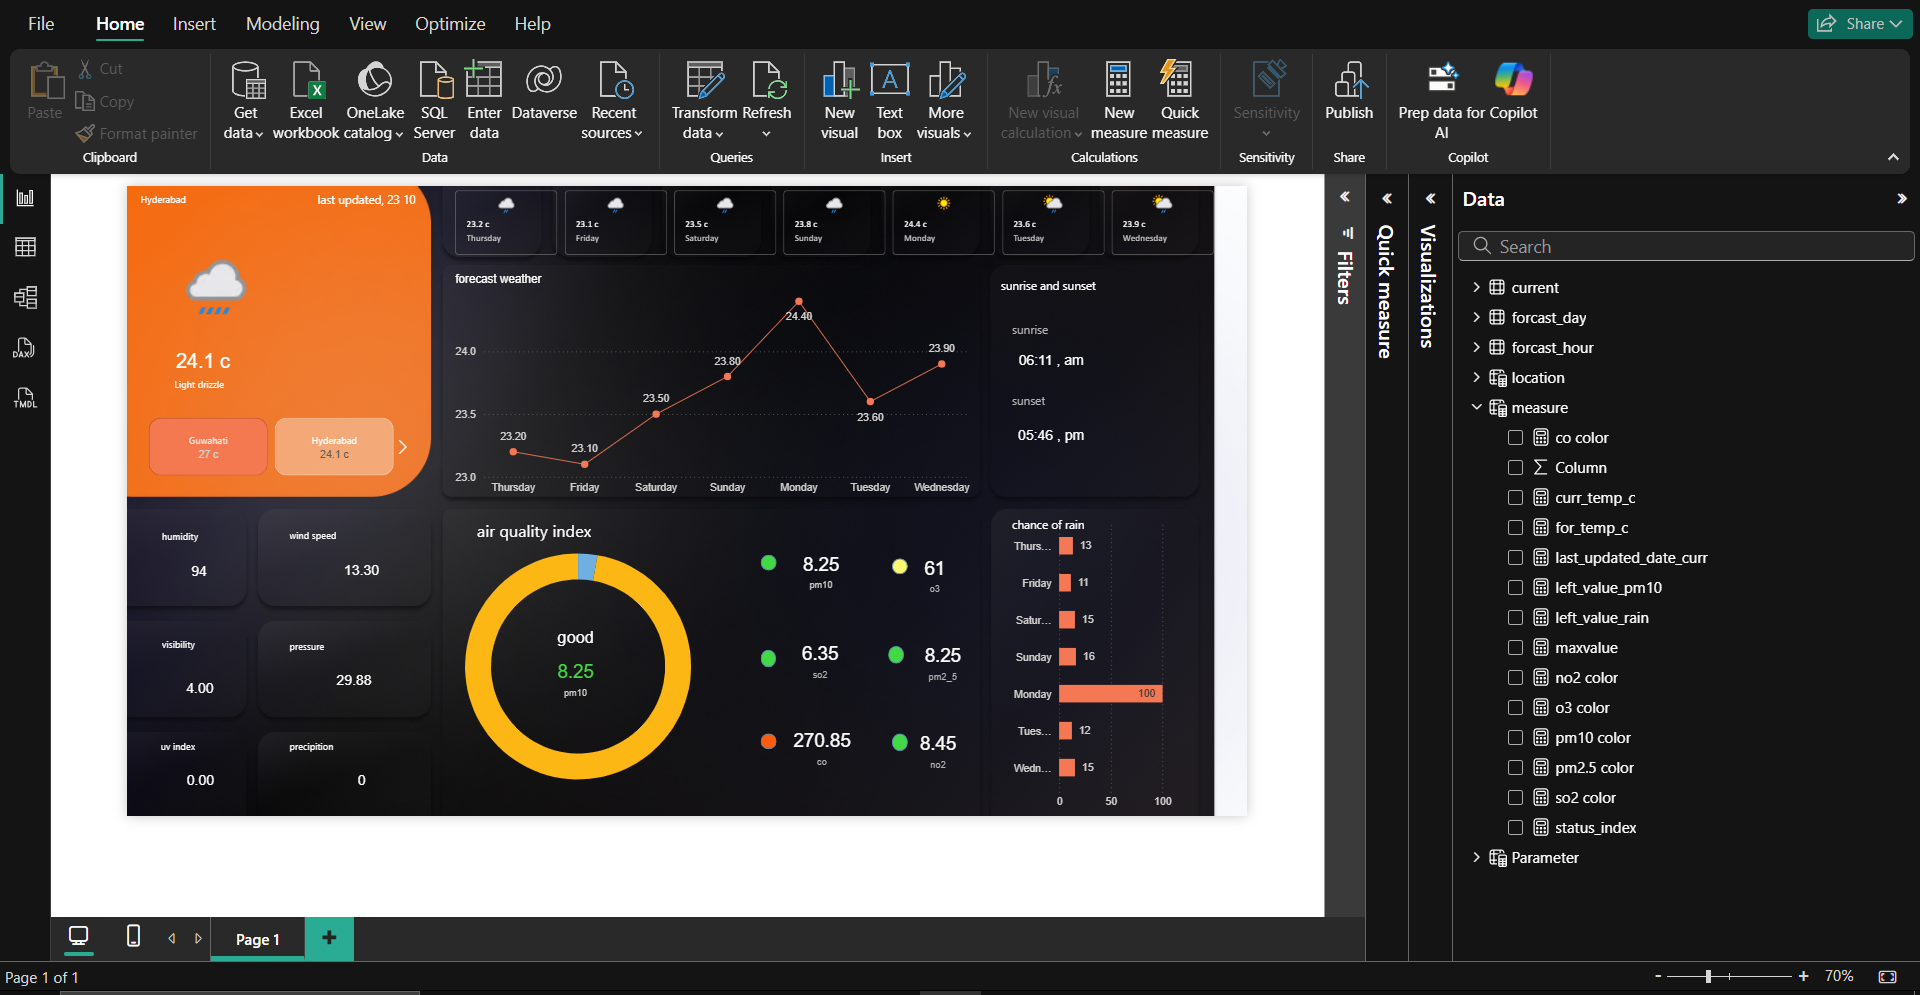

The page's visual inventory and layout, read from the dashboard file:
{"tool":"powerbi","page":{"name":"Page 1","canvas":[1280,720],"ordinal":0},"visuals":[{"type":"advancedSlicerVisual","fields":{"Values":["location.location.name"],"Label":["measure.curr_temp_c"]},"box":[0,260,330,76],"z":0},{"type":"card","fields":{"Values":["measure.curr_temp_c"]},"box":[0,182,174,38],"z":1000},{"type":"shape","box":[186,0,144,30],"z":2000},{"type":"shape","box":[16,0,146,30],"z":3000},{"type":"shape","box":[40,510,104,26],"z":4000},{"type":"shape","box":[40,386,104,28],"z":5000},{"type":"shape","box":[38,626,104,28],"z":6000},{"type":"shape","box":[186,386,104,26],"z":7000},{"type":"shape","box":[186,512,104,28],"z":8000},{"type":"shape","box":[186,626,104,28],"z":9000},{"type":"card","fields":{"Values":["Sum(current.current.humidity)"]},"box":[38,416,88,52],"z":10000},{"type":"card","fields":{"Values":["Sum(current.current.vis_km)"]},"box":[38,550,90,52],"z":11000},{"type":"card","fields":{"Values":["Sum(current.current.uv)"]},"box":[40,654,88,52],"z":12000},{"type":"card","fields":{"Values":["Sum(current.current.precip_in)"]},"box":[224,654,88,52],"z":13000},{"type":"advancedSlicerVisual","fields":{"Values":["forcast_day.day_name"]},"box":[370,0,880,84],"z":14000},{"type":"lineChart","title":"forecast weather","fields":{"Y":["Sum(forcast_day.forecast.forecastday.day.avgtemp_c)"],"Category":["forcast_day.day_name"]},"box":[370,98,604,262],"z":15000},{"type":"shape","box":[54,212,148,30],"z":16000},{"type":"cardVisual","fields":{"Data":["Min(current.current.condition.icon)"]},"box":[0,30,168.6,160],"z":17000},{"type":"shape","box":[998,98,146,30],"z":18000},{"type":"card","fields":{"Values":["Min(forcast_day.sunrise_day)"]},"box":[1012,186,90,26],"z":19000},{"type":"card","fields":{"Values":["Min(forcast_day.sunset_day)"]},"box":[1012,272,90,26],"z":20000},{"type":"shape","box":[1012,148,146,30],"z":21000},{"type":"shape","box":[1012,230,148,30],"z":22000},{"type":"shape","box":[1012,372,146,30],"z":24000},{"type":"shape","box":[400,368,232,48],"z":25000},{"type":"card","fields":{"Values":["Sum(current.current.pressure_in)"]},"box":[216,540,88,52],"z":26000},{"type":"card","fields":{"Values":["Sum(current.current.wind_kph)"]},"box":[224,414,88,52],"z":27000},{"type":"card","fields":{"Values":["Sum(current.current.air_quality.co)"]},"box":[745,605,97.5,70],"z":28000},{"type":"card","fields":{"Values":["Sum(current.current.air_quality.no2)"]},"box":[887.5,613.8,80,60],"z":29000},{"type":"card","fields":{"Values":["Sum(current.current.air_quality.o3)"]},"box":[892,416,64,56],"z":30000},{"type":"card","fields":{"Values":["Sum(current.current.air_quality.pm10)"]},"box":[752,402,84,76],"z":31000},{"type":"card","fields":{"Values":["Sum(current.current.air_quality.pm2_5)"]},"box":[888,510,88,68],"z":32000},{"type":"card","fields":{"Values":["Sum(current.current.air_quality.so2)"]},"box":[742,506,102,72],"z":33000},{"type":"shape","box":[870,526,18,20],"z":34000},{"type":"shape","box":[874,426,18,18],"z":35000},{"type":"shape","box":[874,626,18,20],"z":36000},{"type":"shape","box":[723.8,530,17.5,20],"z":37000},{"type":"shape","box":[724,626,18,18],"z":38000},{"type":"shape","box":[724,422,18,18],"z":39000},{"type":"card","fields":{"Values":["Sum(current.current.air_quality.pm10)"]},"box":[430,505.7,165.7,91.4],"z":40000},{"type":"donutChart","fields":{"Y":["Sum(current.current.air_quality.pm10)","measure.left_value_pm10"]},"box":[314.3,382.9,402.9,332.9],"z":41000},{"type":"barChart","fields":{"Y":["measure.left_value_rain"],"Category":["forcast_day.day_name"]},"box":[995.7,371.4,227.1,348.6],"z":41001}]}

Visuals, with their boxes on the page's 1280x720 design canvas (x1, y1, x2, y2). These are canvas units, not pixel positions in the 1920x995 screenshot, which may show the page scaled, cropped or inside an application window:
advancedSlicerVisual - location.location.name x measure.curr_temp_c: box=[0, 260, 330, 336]
card - measure.curr_temp_c: box=[0, 182, 174, 220]
shape: box=[186, 0, 330, 30]
shape: box=[16, 0, 162, 30]
shape: box=[40, 510, 144, 536]
shape: box=[40, 386, 144, 414]
shape: box=[38, 626, 142, 654]
shape: box=[186, 386, 290, 412]
shape: box=[186, 512, 290, 540]
shape: box=[186, 626, 290, 654]
card - Sum(current.current.humidity): box=[38, 416, 126, 468]
card - Sum(current.current.vis_km): box=[38, 550, 128, 602]
card - Sum(current.current.uv): box=[40, 654, 128, 706]
card - Sum(current.current.precip_in): box=[224, 654, 312, 706]
advancedSlicerVisual - forcast_day.day_name: box=[370, 0, 1250, 84]
"forecast weather" lineChart: box=[370, 98, 974, 360]
shape: box=[54, 212, 202, 242]
cardVisual - Min(current.current.condition.icon): box=[0, 30, 169, 190]
shape: box=[998, 98, 1144, 128]
card - Min(forcast_day.sunrise_day): box=[1012, 186, 1102, 212]
card - Min(forcast_day.sunset_day): box=[1012, 272, 1102, 298]
shape: box=[1012, 148, 1158, 178]
shape: box=[1012, 230, 1160, 260]
shape: box=[1012, 372, 1158, 402]
shape: box=[400, 368, 632, 416]
card - Sum(current.current.pressure_in): box=[216, 540, 304, 592]
card - Sum(current.current.wind_kph): box=[224, 414, 312, 466]
card - Sum(current.current.air_quality.co): box=[745, 605, 842, 675]
card - Sum(current.current.air_quality.no2): box=[888, 614, 968, 674]
card - Sum(current.current.air_quality.o3): box=[892, 416, 956, 472]
card - Sum(current.current.air_quality.pm10): box=[752, 402, 836, 478]
card - Sum(current.current.air_quality.pm2_5): box=[888, 510, 976, 578]
card - Sum(current.current.air_quality.so2): box=[742, 506, 844, 578]
shape: box=[870, 526, 888, 546]
shape: box=[874, 426, 892, 444]
shape: box=[874, 626, 892, 646]
shape: box=[724, 530, 741, 550]
shape: box=[724, 626, 742, 644]
shape: box=[724, 422, 742, 440]
card - Sum(current.current.air_quality.pm10): box=[430, 506, 596, 597]
donutChart - Sum(current.current.air_quality.pm10) x measure.left_value_pm10: box=[314, 383, 717, 716]
barChart - measure.left_value_rain x forcast_day.day_name: box=[996, 371, 1223, 720]
